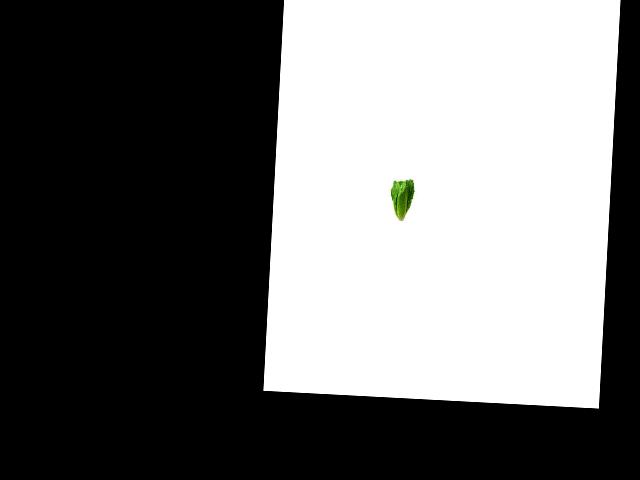lettuce: (385, 176, 418, 223)
